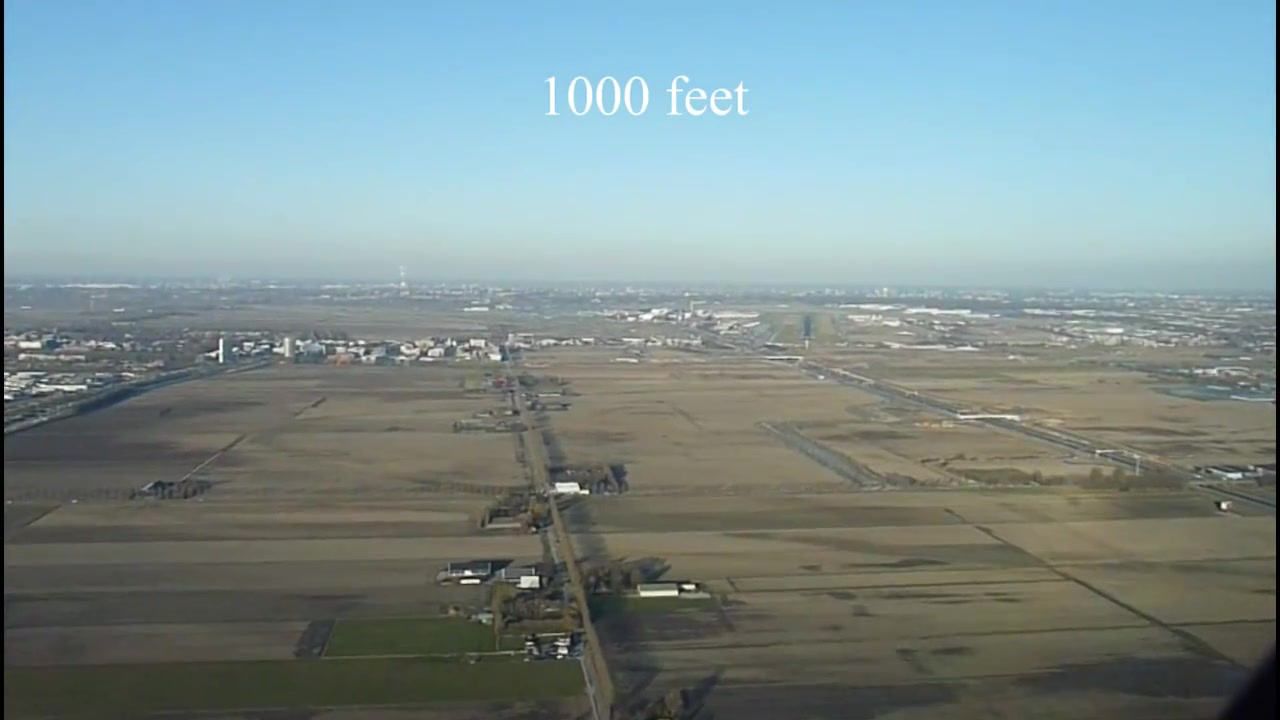runway: (798, 312, 817, 342)
